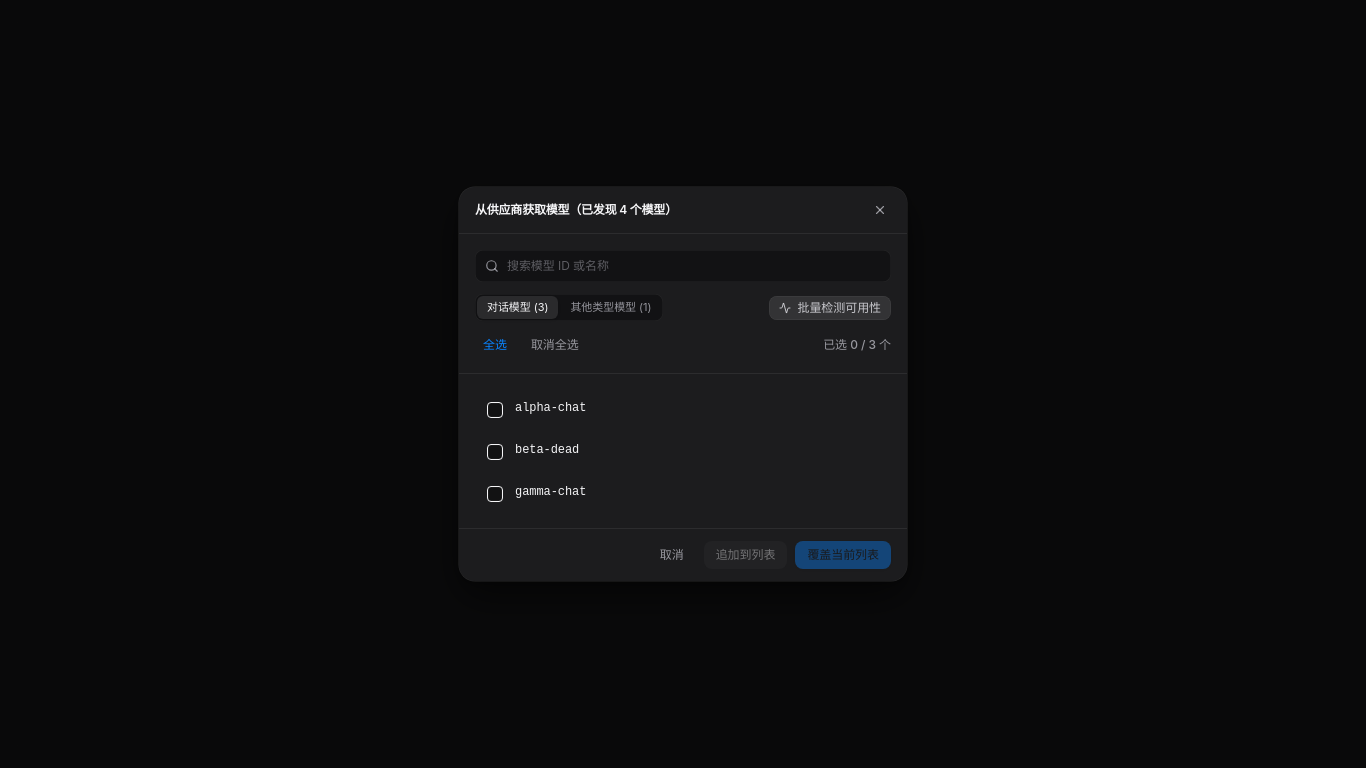
ModelPickerModal › keeps an unavailable model, unchecks it and sinks it to the bottom with a badge
Step 1. Click the button "全选" → (495, 345), box 475,333 -> 515,357
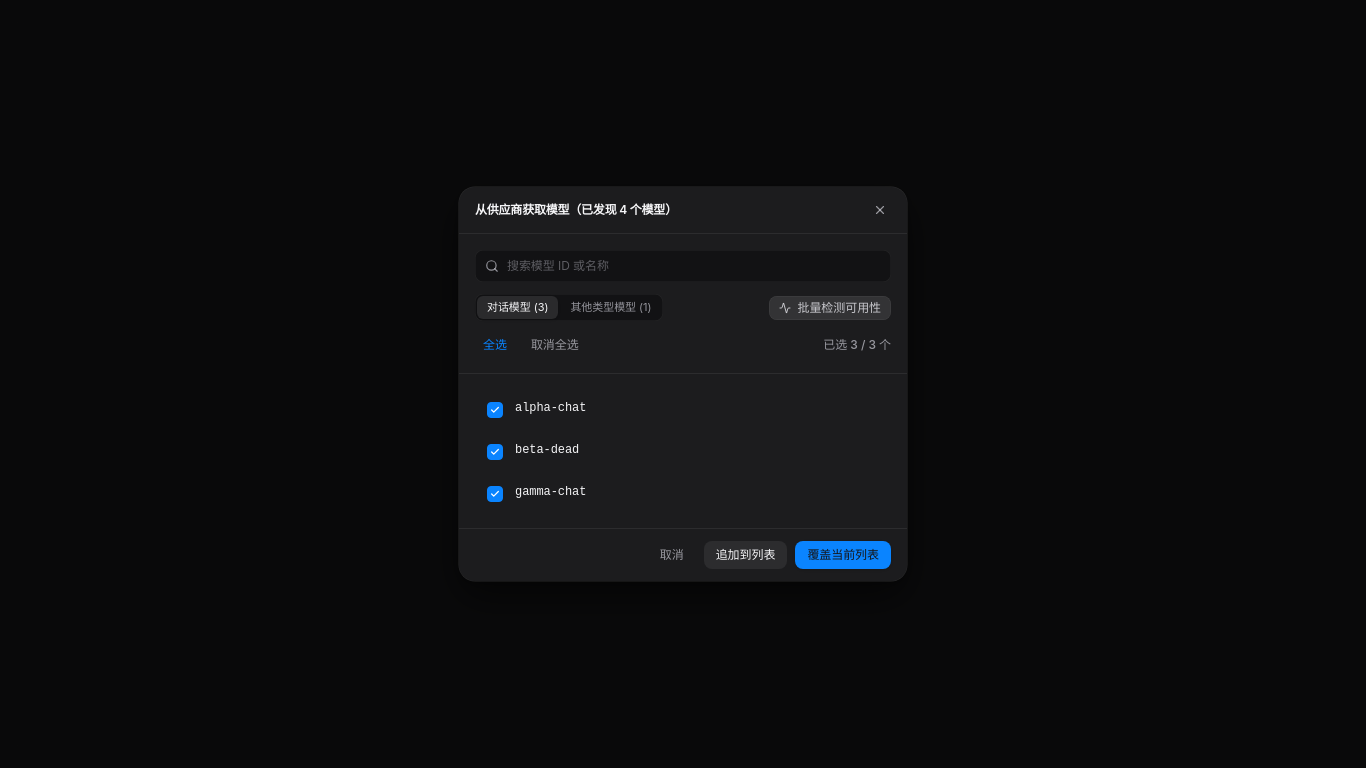
Result: the text "已选 3 / 3 个" is shown at 823,337 -> 891,353
Step 2. Click the button "批量检测可用性" → (830, 308), box 770,296 -> 891,320
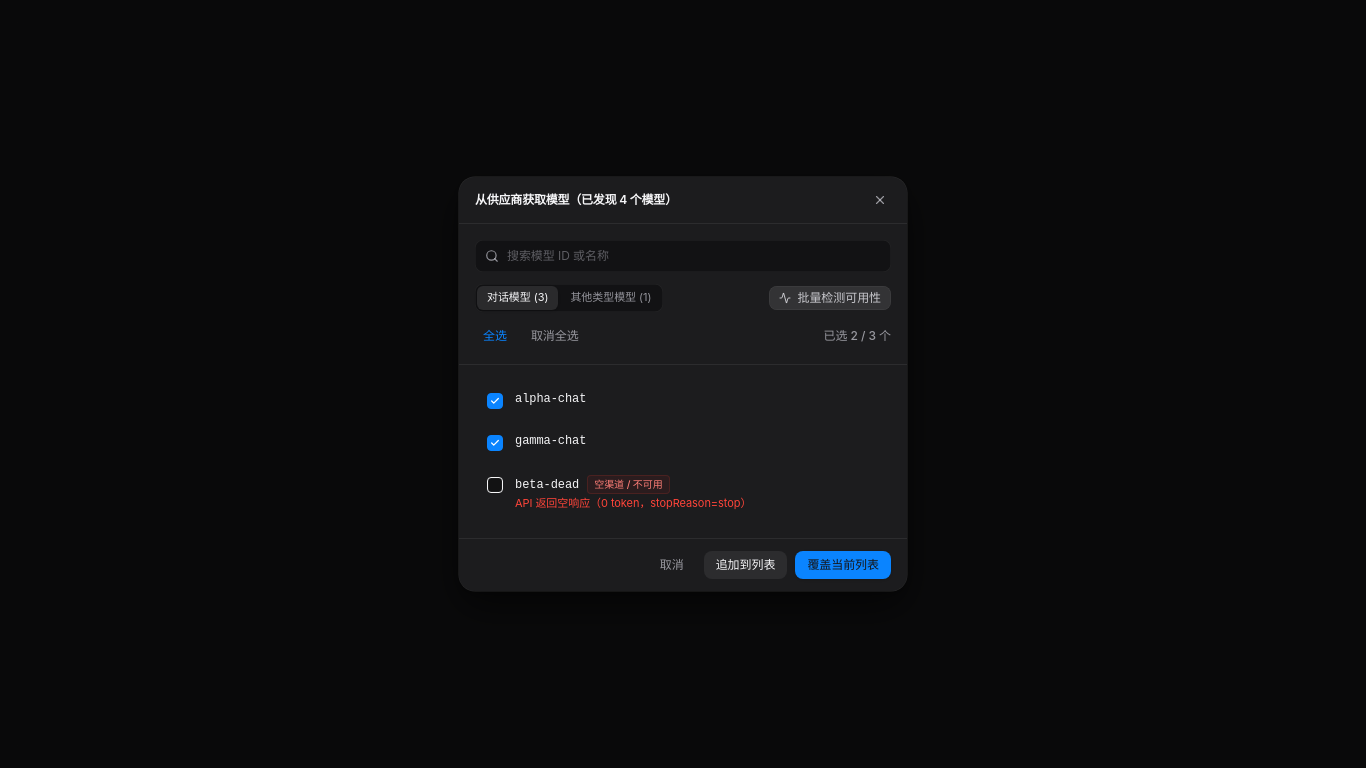
Result: the text "空渠道 / 不可用" is shown at 587,475 -> 670,494
Result: the text "已选 2 / 3 个" is shown at 824,328 -> 891,344
Result: the text "API 返回空响应（0 token，stopReason=stop）" is shown at 515,496 -> 751,510
